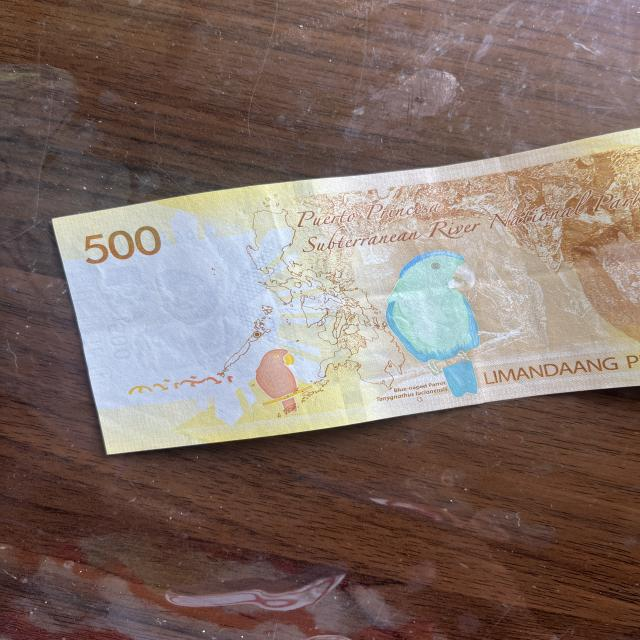500_big_parrot: (366, 244, 509, 398)
500_parrot_watermark: (255, 348, 310, 409)
value_watermark: (99, 322, 139, 365)
watermark: (88, 248, 247, 365)
